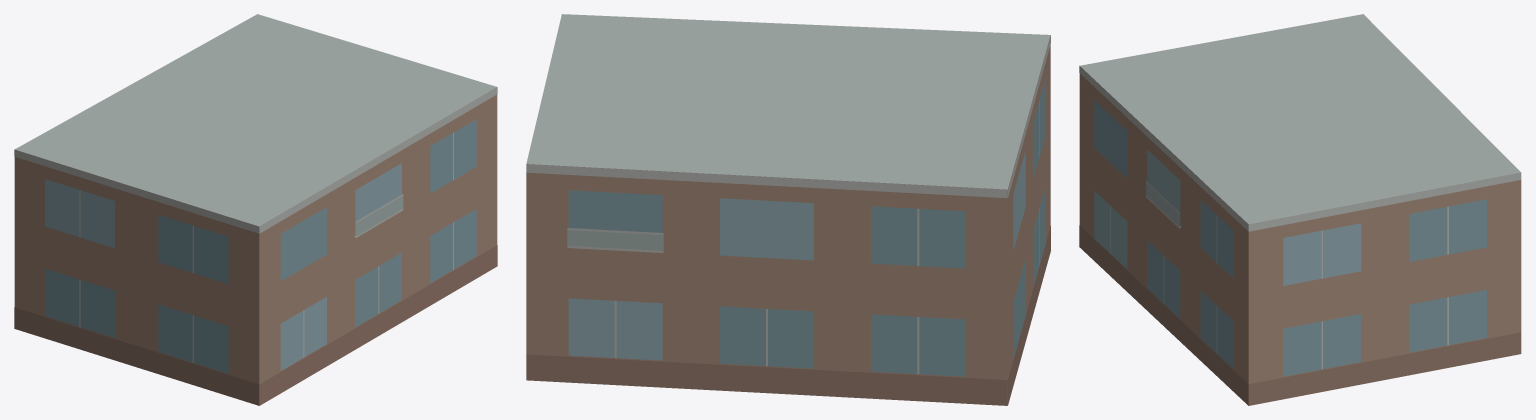
Rendered from survey-upis-32525119.glb.
3 renders of one model, left to right at view 1: azimuth 30°, elevation 25°; view 2: azimuth 150°, elevation 25°; view 3: azimuth 270°, elevation 25°, orthographic. The views are drawn at different scales.
Parts seen in each view (by area): view 1: survey-upis-32525119.tmp; view 2: survey-upis-32525119.tmp; view 3: survey-upis-32525119.tmp.
Part boxes in pixels (x1,y1,x2,y2): survey-upis-32525119.tmp: (14,14,497,405); survey-upis-32525119.tmp: (526,14,1050,405); survey-upis-32525119.tmp: (1079,14,1521,405).
Bounding box in the file's own units: 15.19 × 6.1 × 13.47.
